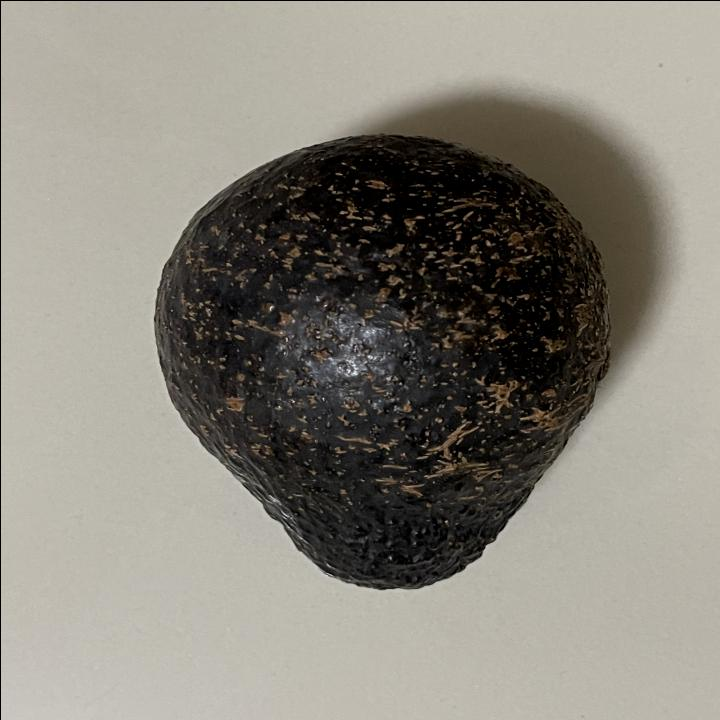Level3: (138, 126, 620, 598)
